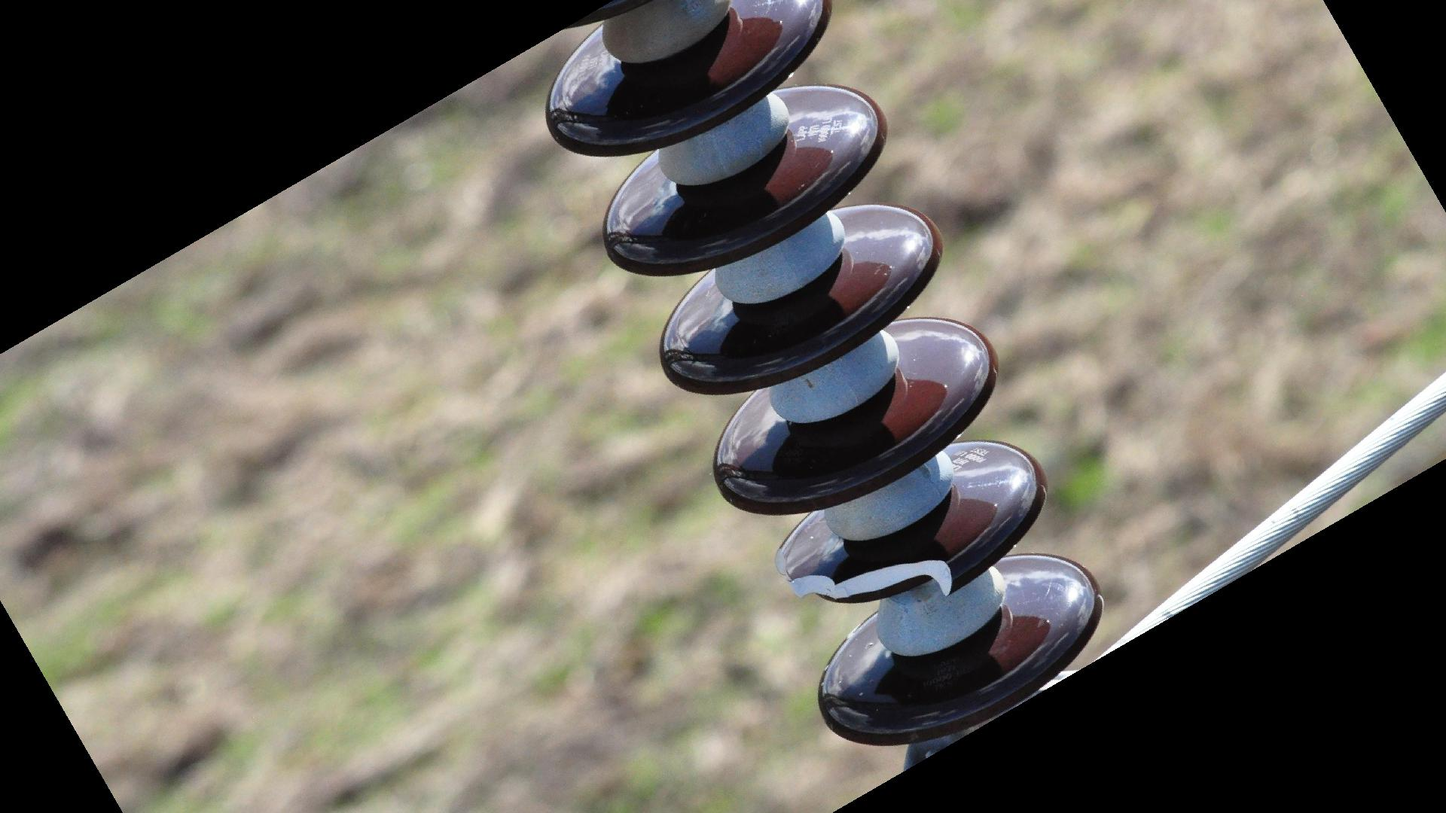insulator: (540, 1, 1113, 774)
insulator_breakage: (764, 544, 969, 607)
